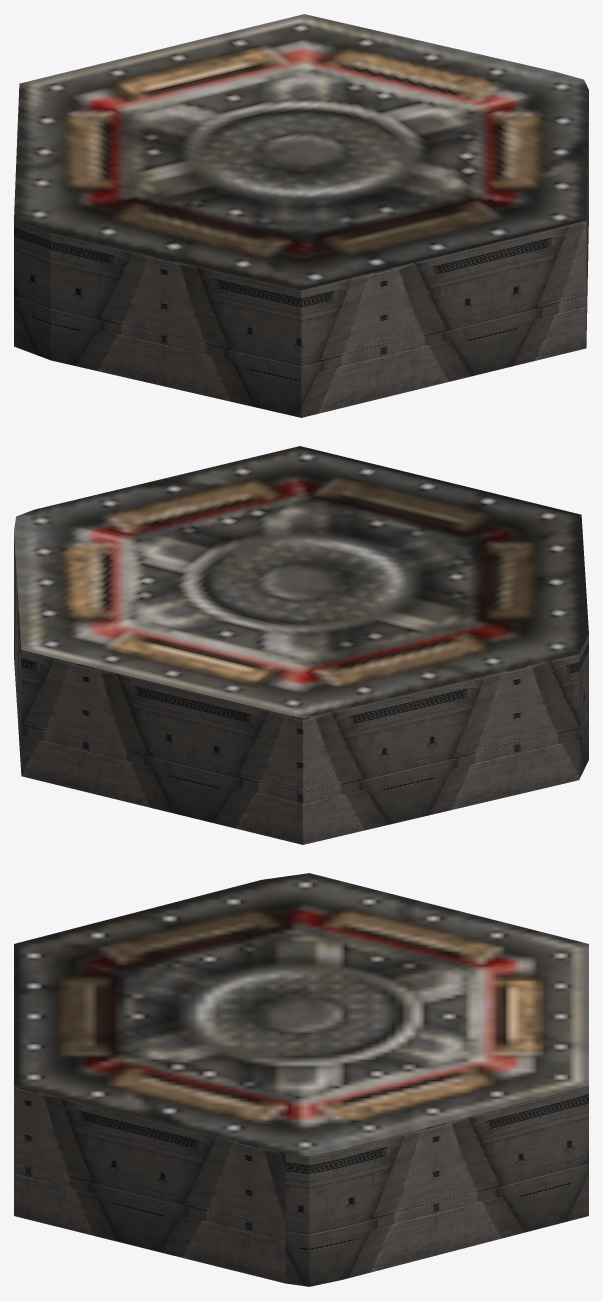
File: gun_emplacement_hard_a_01.glb
The picture shows the model from 3 angles, top to bottom: view 1: azimuth 30°, elevation 25°; view 2: azimuth 150°, elevation 25°; view 3: azimuth 270°, elevation 25°; orthographic projection. The views are drawn at different scales.
Visible parts, largest first — view 1: buildings/saxarba/gun_emplacement/gun_emplacement_hard_a_01; view 2: buildings/saxarba/gun_emplacement/gun_emplacement_hard_a_01; view 3: buildings/saxarba/gun_emplacement/gun_emplacement_hard_a_01.
Part boxes in pixels (<box>): buildings/saxarba/gun_emplacement/gun_emplacement_hard_a_01: <box>14,14,588,417</box>; buildings/saxarba/gun_emplacement/gun_emplacement_hard_a_01: <box>14,446,588,844</box>; buildings/saxarba/gun_emplacement/gun_emplacement_hard_a_01: <box>14,873,588,1286</box>.
Bounding box in the file's own units: 84 × 18 × 72.
